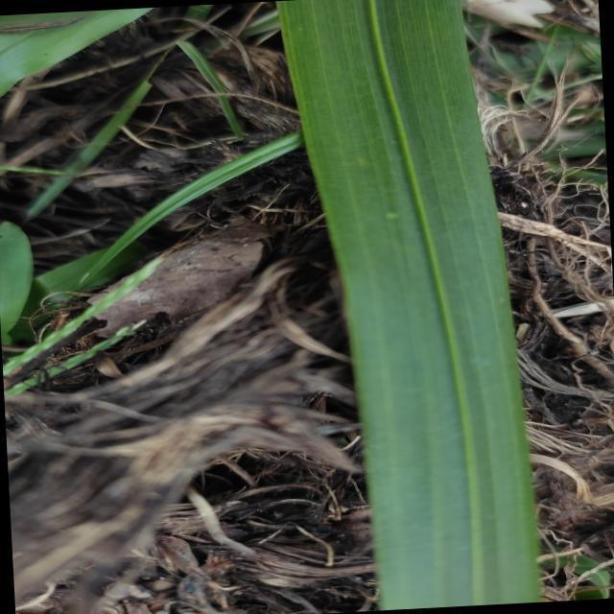Healthy: (277, 0, 537, 614)
